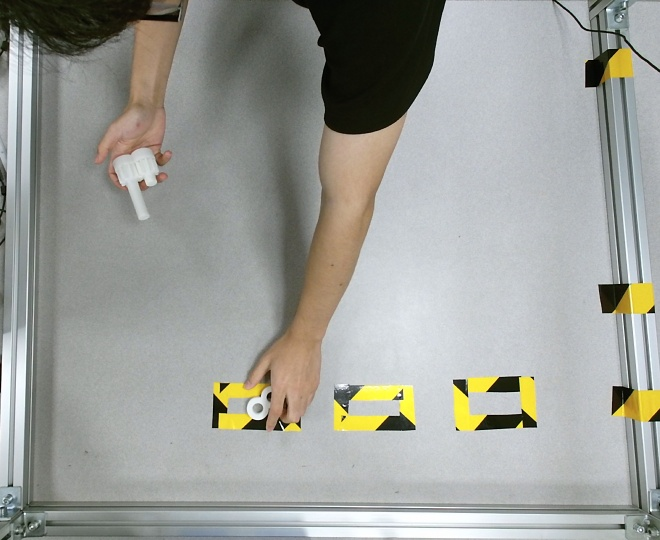stage_3: (113, 149, 159, 222)
